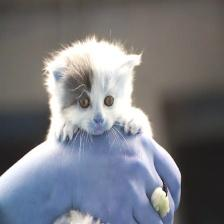kedo: (47, 43, 150, 138)
